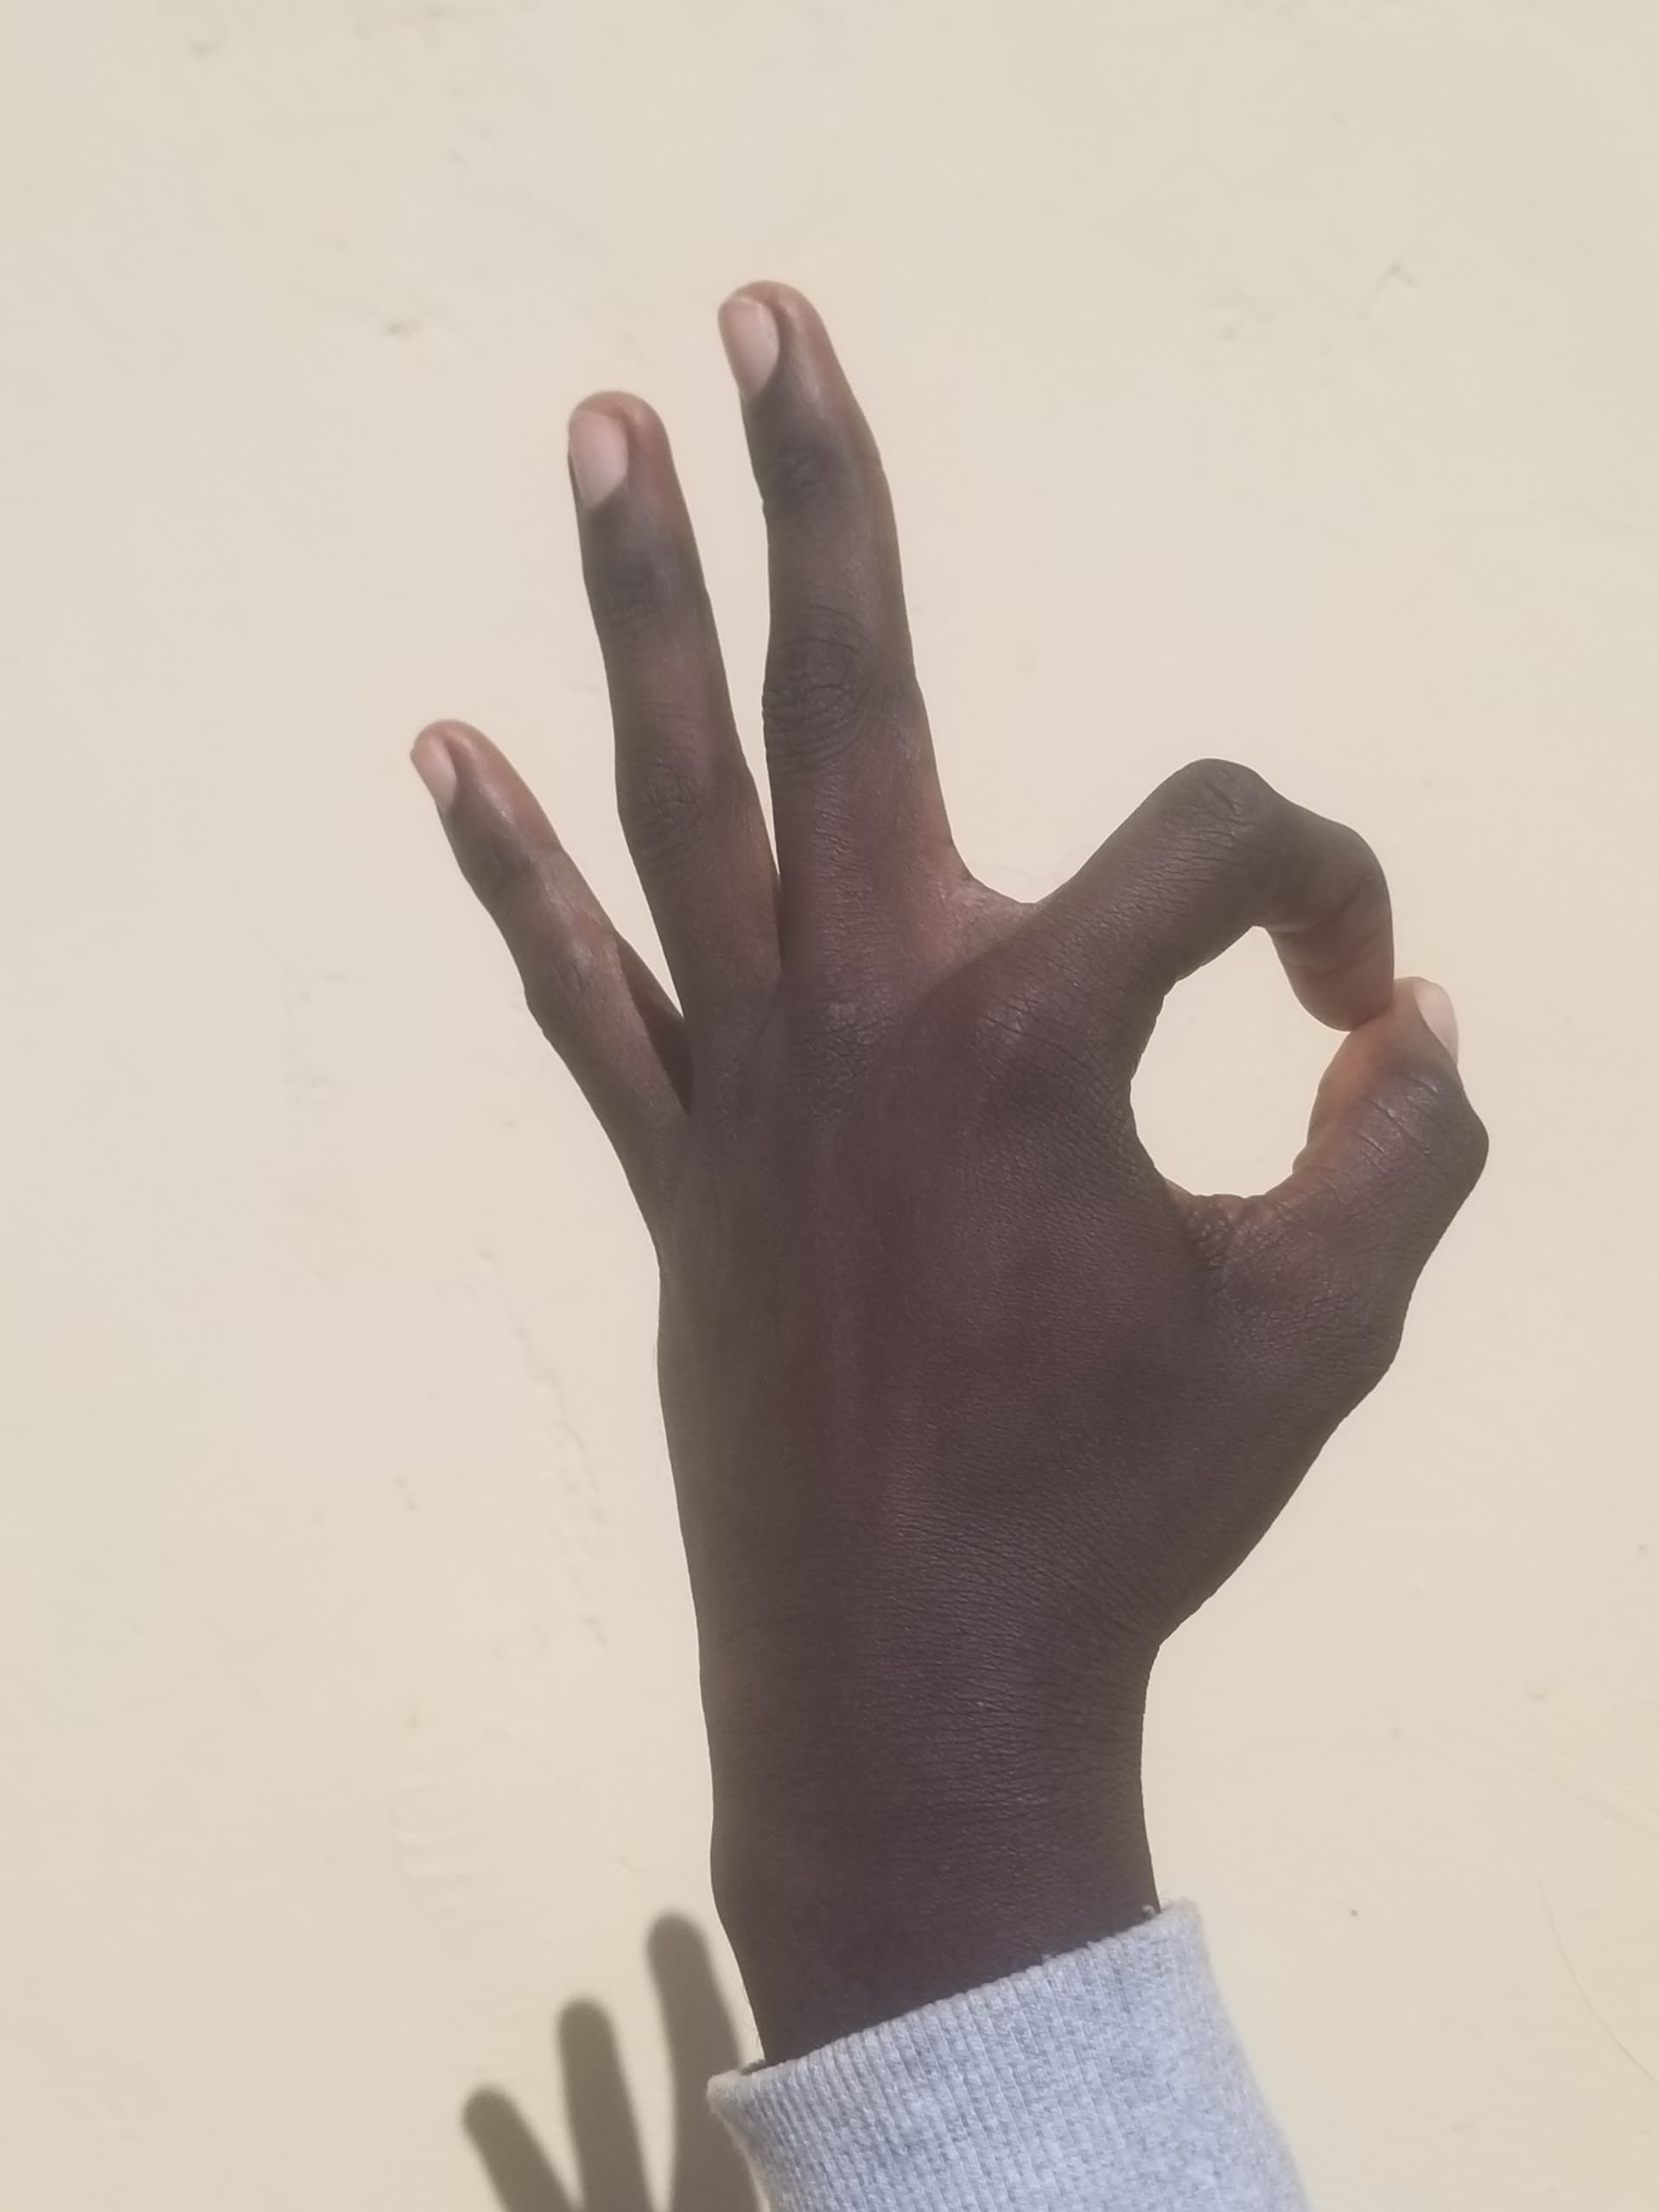okay: (355, 244, 1520, 2066)
